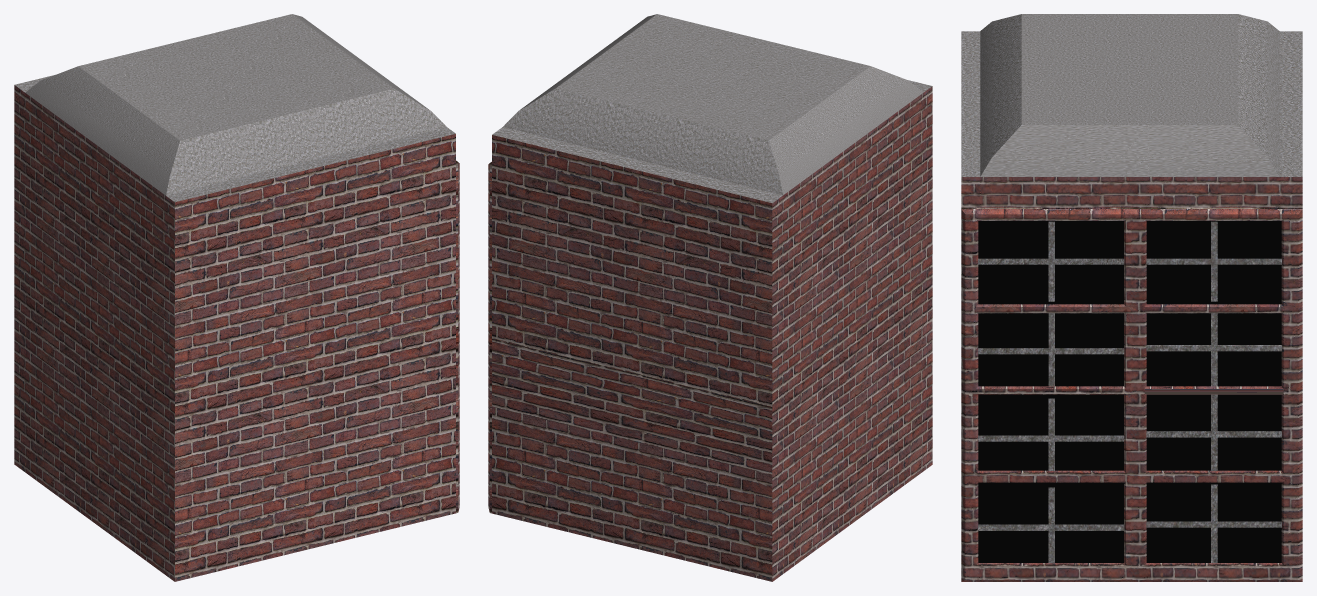
Rendered from BlockEnding.fbx.
The picture shows the model from 3 angles, left to right: view 1: azimuth 30°, elevation 25°; view 2: azimuth 150°, elevation 25°; view 3: azimuth 270°, elevation 25°; orthographic projection. The views are drawn at different scales.
Parts seen in each view (by area): view 1: pCube1; view 2: pCube1; view 3: pCube1, pCube18, pCube3, pCube9, pCube7, pCube11, pCube4, pCube12, pCube14, pCube16, pCube2, pCube17 (+6 smaller).
Boxes of the visible parts, x1=… form: pCube1: x1=14, y1=14, x2=459, y2=581; pCube1: x1=488, y1=14, x2=932, y2=581; pCube1: x1=961, y1=14, x2=1302, y2=581; pCube18: x1=978, y1=221, x2=1281, y2=562; pCube3: x1=978, y1=258, x2=1124, y2=264; pCube9: x1=978, y1=435, x2=1124, y2=441; pCube7: x1=978, y1=348, x2=1124, y2=354; pCube11: x1=978, y1=524, x2=1124, y2=530; pCube4: x1=1146, y1=258, x2=1281, y2=264; pCube12: x1=1146, y1=345, x2=1281, y2=351; pCube14: x1=1146, y1=431, x2=1281, y2=437; pCube16: x1=1146, y1=521, x2=1281, y2=527; pCube2: x1=1048, y1=221, x2=1054, y2=301; pCube17: x1=1211, y1=484, x2=1217, y2=562.
Size of the model in its own units: 80.09 by 110 by 77.69.
